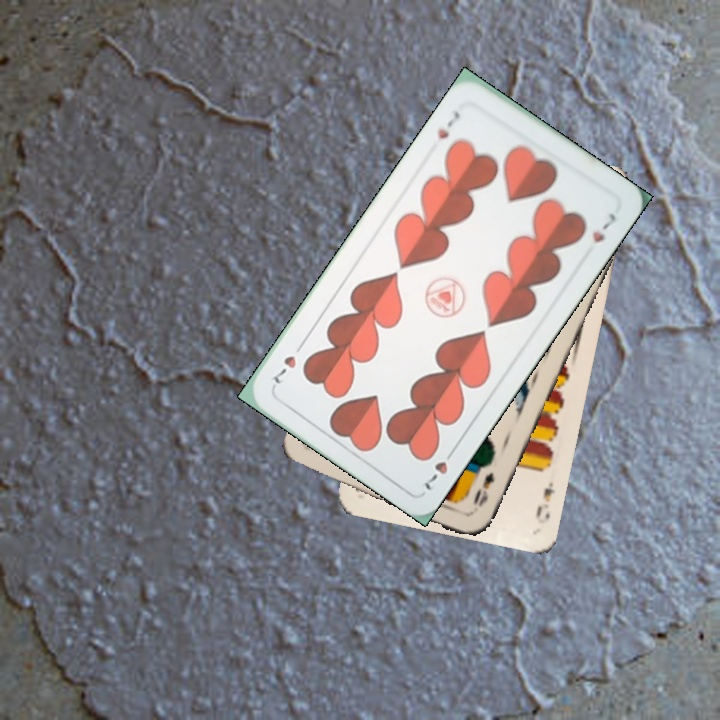E9: (532, 478, 558, 520)
EO: (469, 468, 497, 510)
H7: (420, 442, 459, 494), (433, 107, 463, 142)
